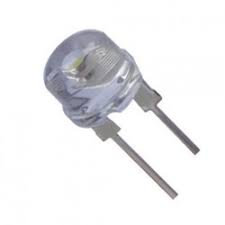LED: (41, 28, 203, 200)
